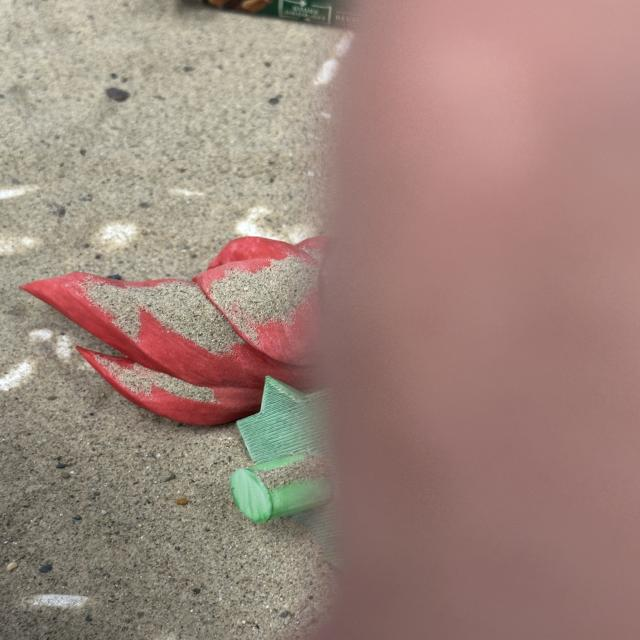fire: (19, 233, 328, 427)
